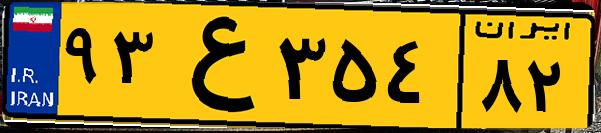2: (525, 38, 570, 115)
3: (270, 28, 330, 110), (110, 28, 158, 98)
4: (385, 28, 445, 110)
5: (330, 28, 385, 110)
8: (475, 38, 525, 113)
9: (57, 26, 110, 100)
ع: (158, 12, 270, 120)
